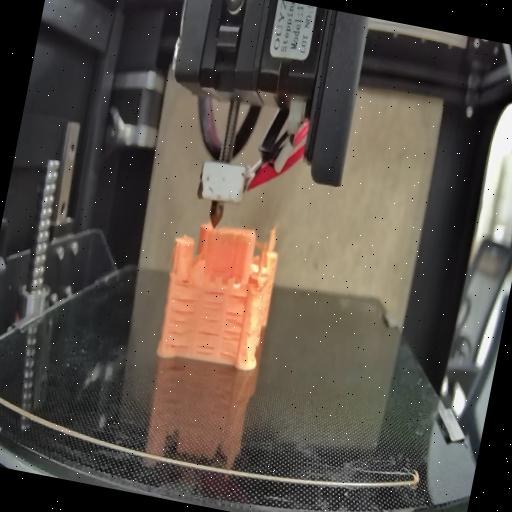cracks: (218, 292, 249, 360), (164, 296, 200, 350), (198, 290, 228, 326), (192, 330, 218, 360), (178, 274, 197, 288)
